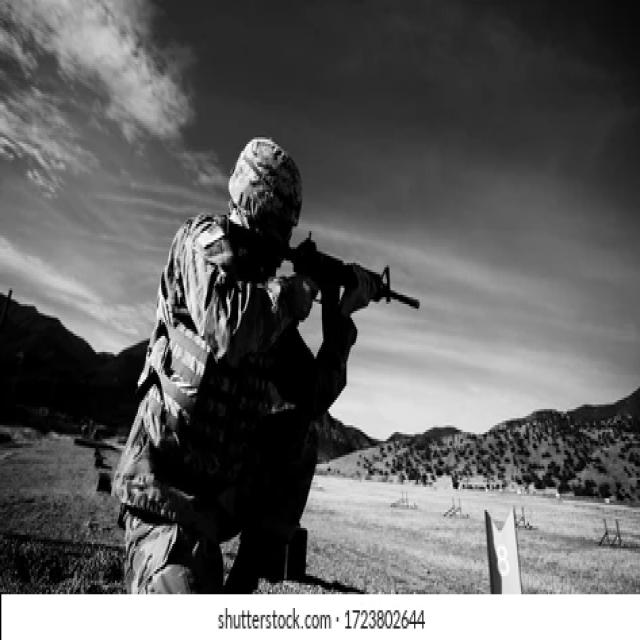soldier: (75, 141, 457, 583)
